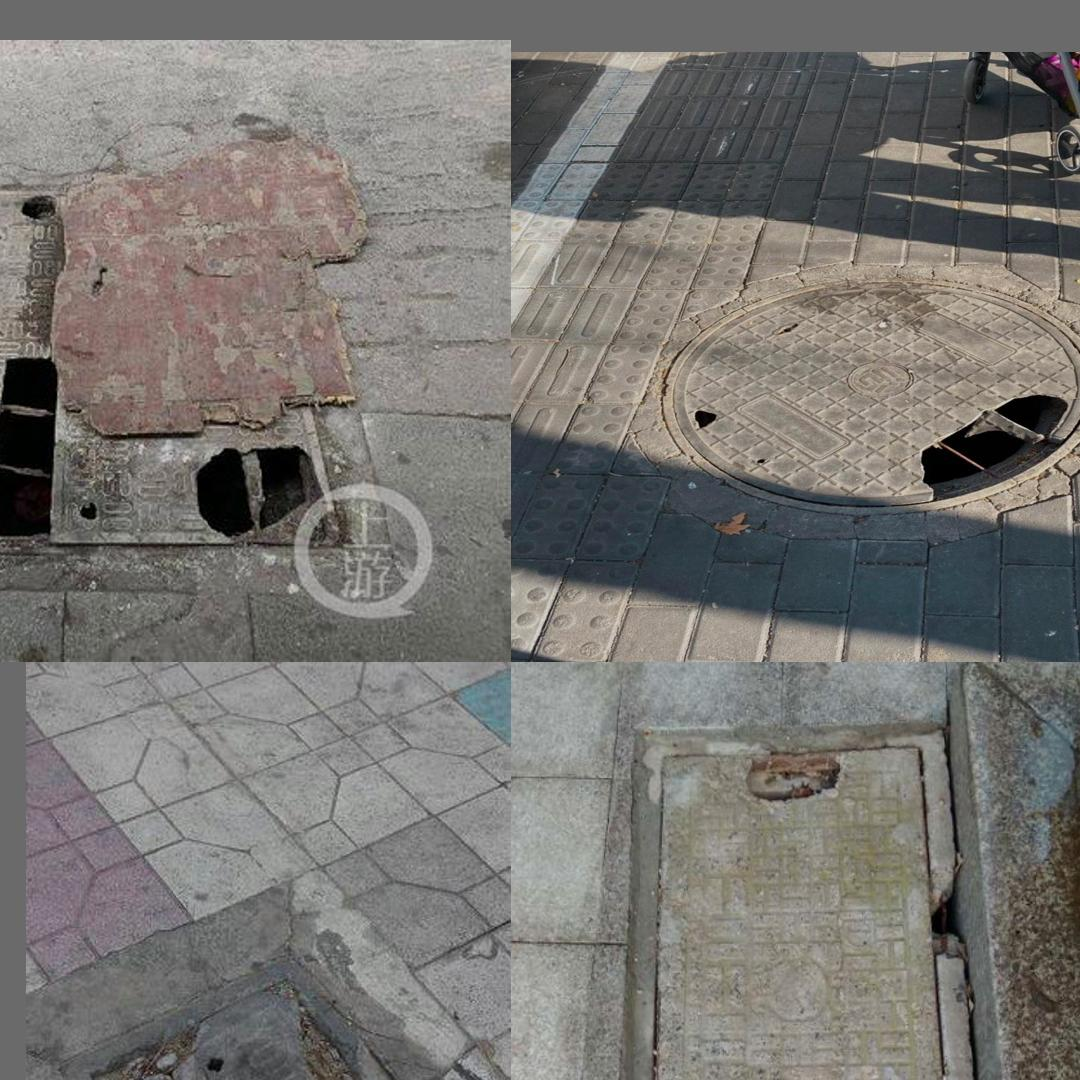broke: (0, 159, 379, 582), (616, 720, 989, 1080), (660, 276, 1080, 516), (56, 945, 477, 1080)
